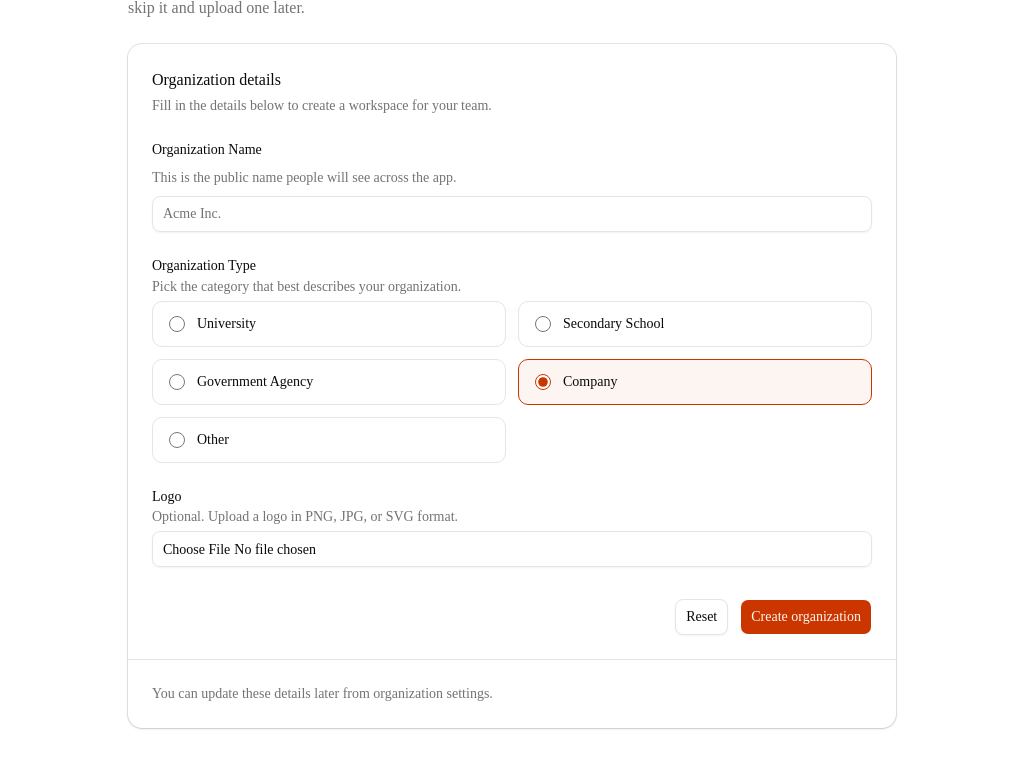
Test case: OrgSetup (Organization Creation) › validates that the organization name is required
This screenshot has width=1024, height=768.
(page scrolled)
Click the button "Create organization" at (806, 617), box [740,599,872,635]
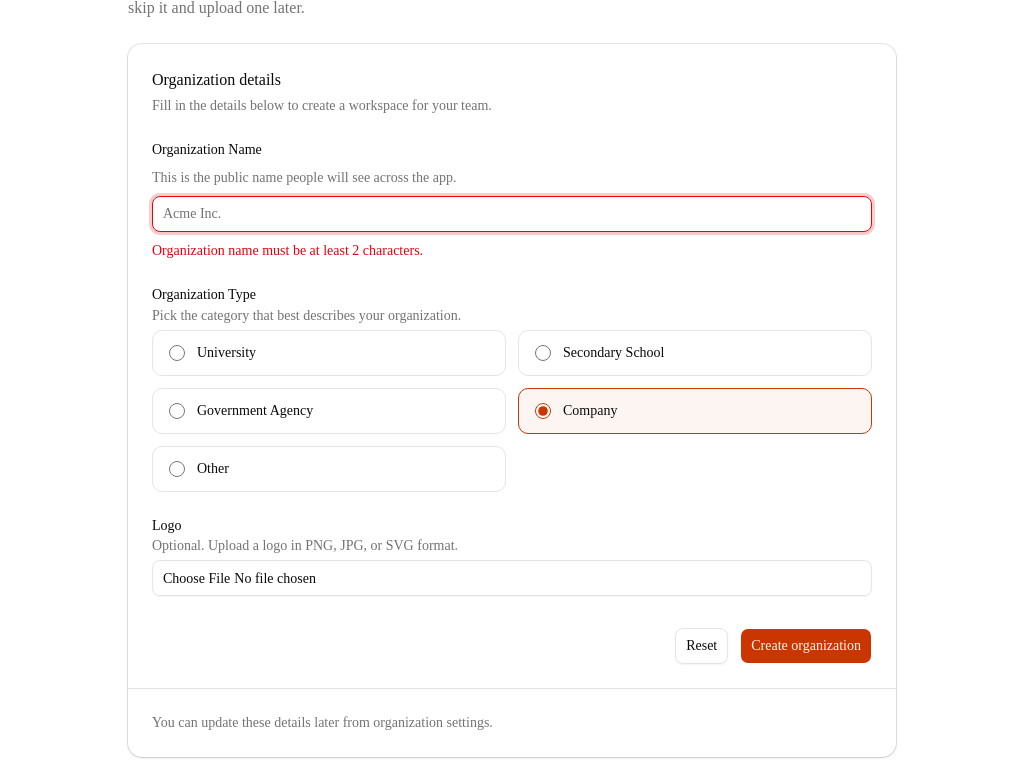
Now the text "Organization name must be at least 2 characters." is shown, box [152,243,423,258]
